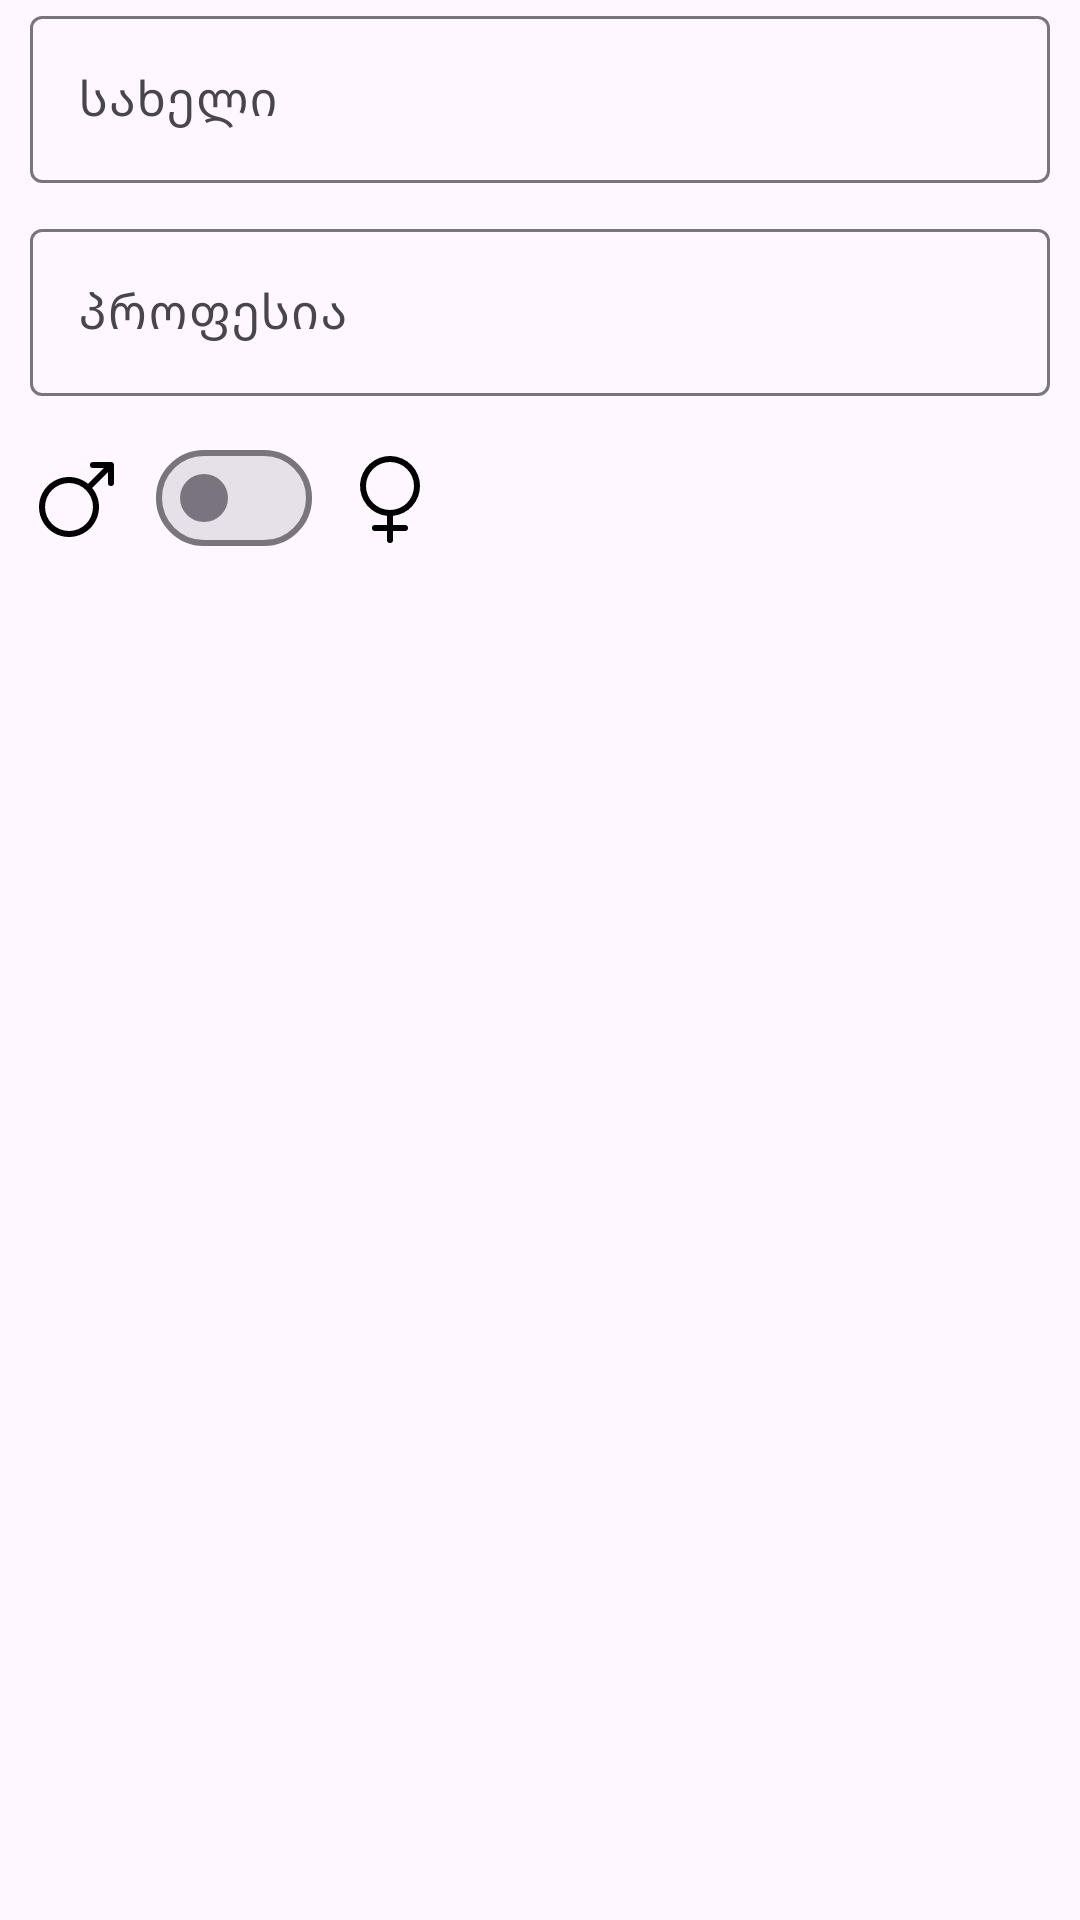

Icons on this 1080px x 1920px Android screen, each with the point to tap as point (x, y):
კაცი: point (76, 499)
ქალი: point (390, 499)
